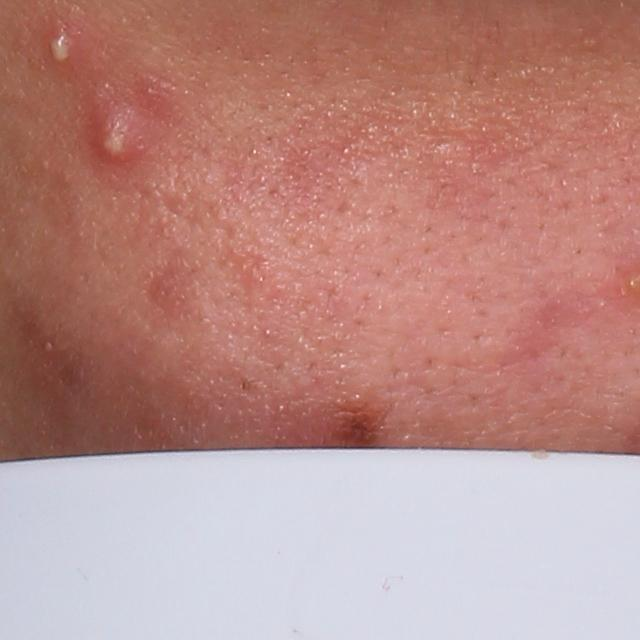pustule: (79, 93, 153, 171), (36, 21, 83, 73)
